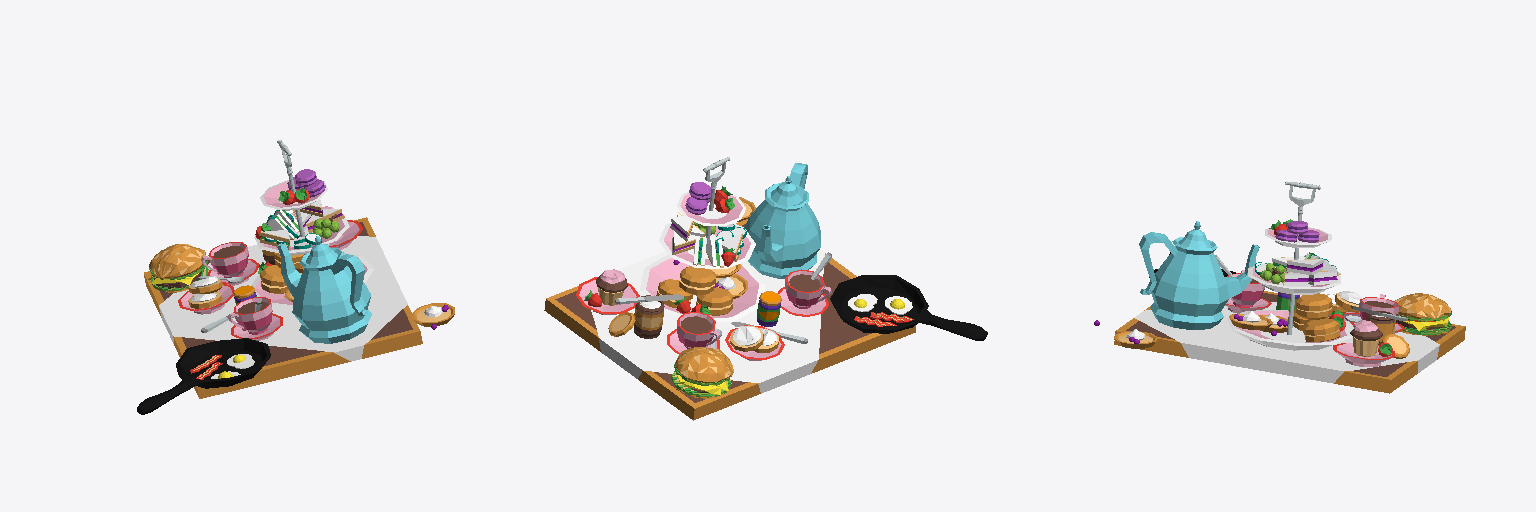
The picture shows the model from 3 angles: view 1: azimuth 30°, elevation 25°; view 2: azimuth 150°, elevation 25°; view 3: azimuth 270°, elevation 25°; orthographic projection.
Parts seen in each view (by area): view 1: group[number redacted], group[number redacted], group[number redacted], group[number redacted]; view 2: group[number redacted], group[number redacted], group[number redacted]; view 3: group[number redacted], group[number redacted], group[number redacted].
Boxes of the visible parts, box(x1,y1,x2,y2) form: group[number redacted]: box(144, 140, 422, 398); group[number redacted]: box(137, 338, 270, 414); group[number redacted]: box(148, 244, 208, 292); group[number redacted]: box(412, 303, 454, 326); group[number redacted]: box(544, 157, 915, 420); group[number redacted]: box(830, 275, 987, 340); group[number redacted]: box(671, 347, 733, 398); group[number redacted]: box(1114, 181, 1465, 393); group[number redacted]: box(1395, 293, 1451, 335); group[number redacted]: box(1114, 329, 1157, 348).
Bounding box in the file's own units: 3.8 × 2 × 3.63.